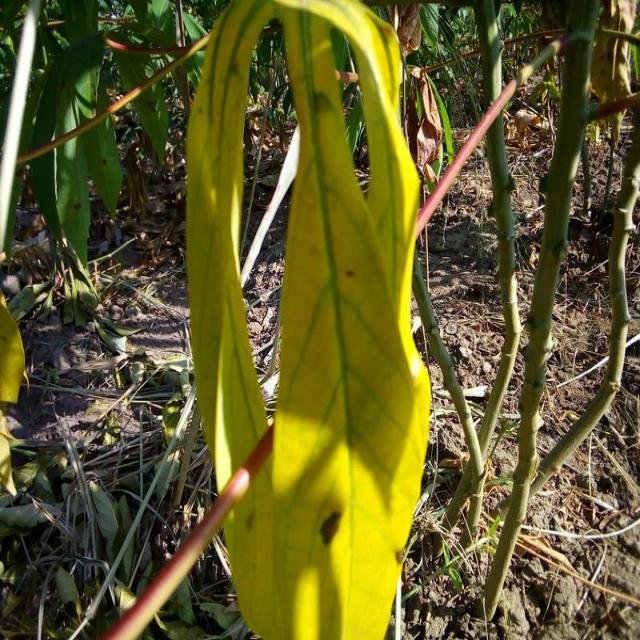cassava leaf: (184, 0, 432, 638)
